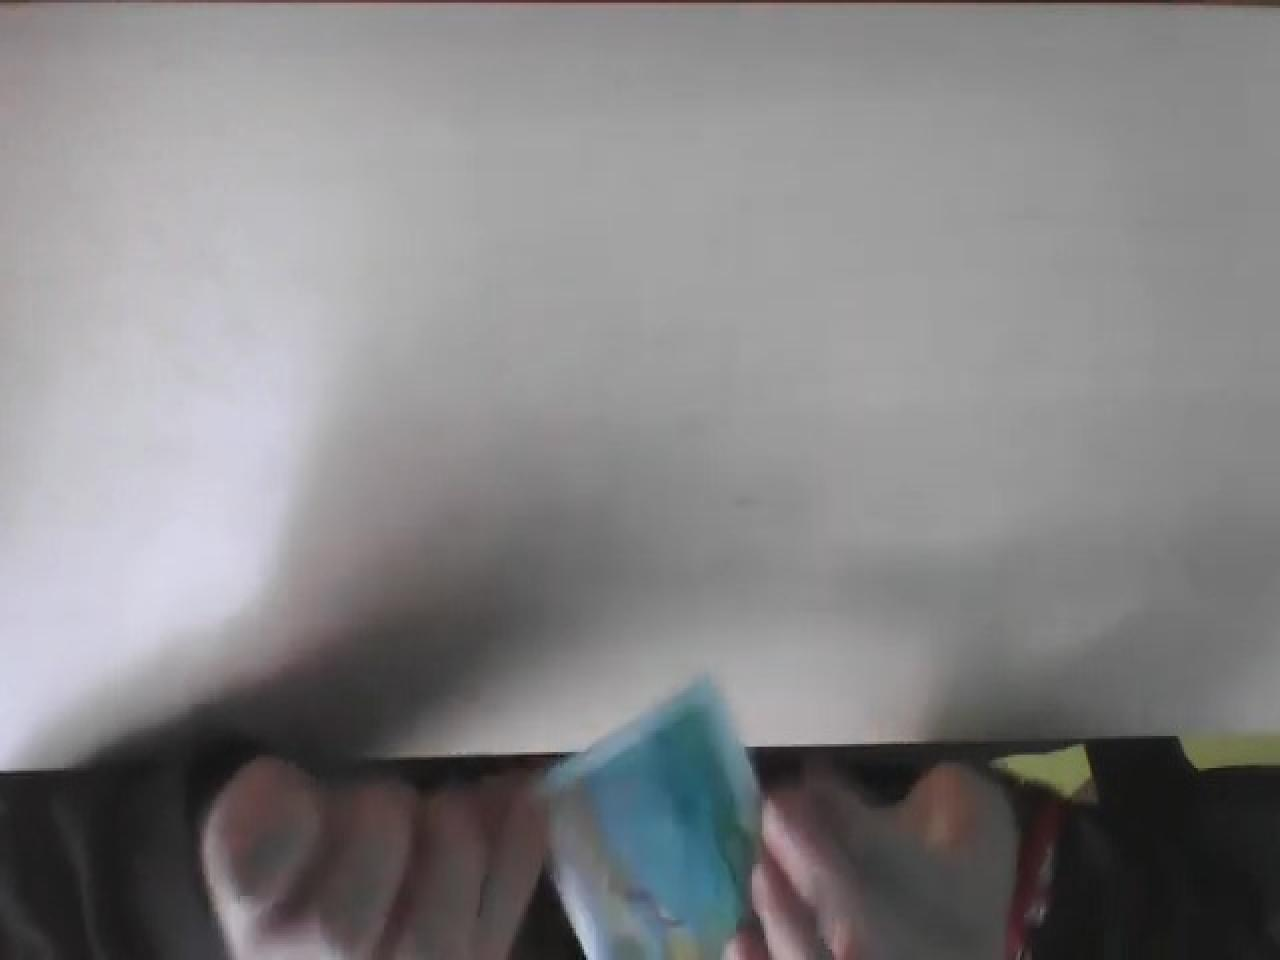100leva: (538, 675, 764, 960)
